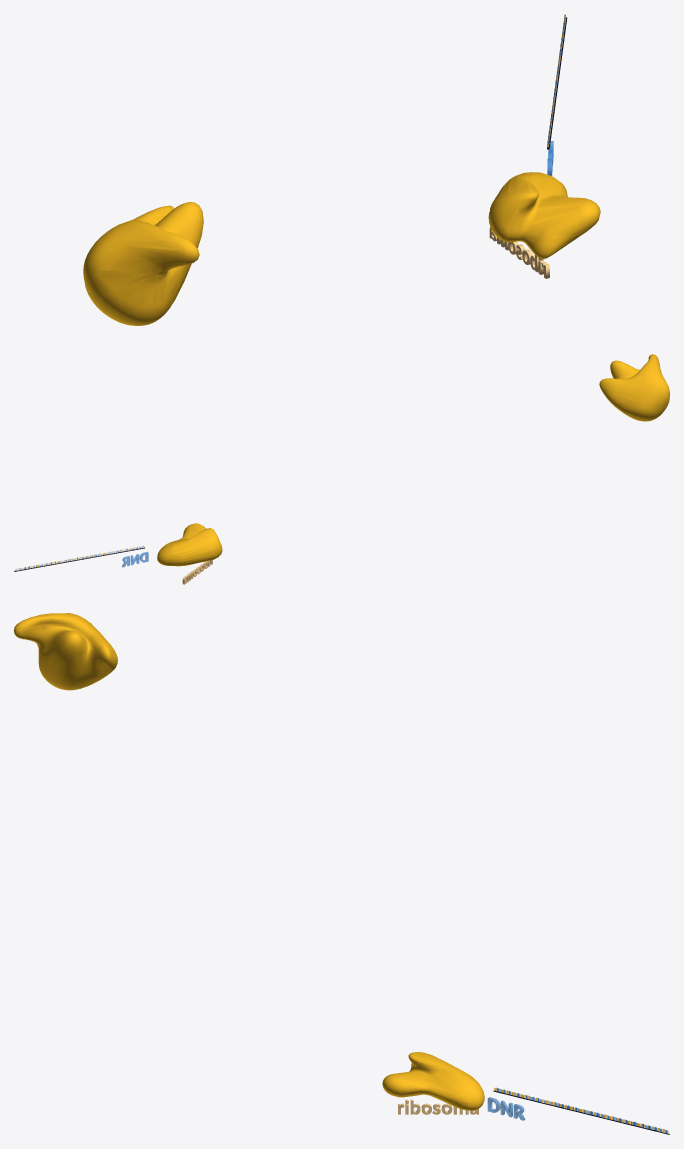
Rendered from transliacija.glb.
3 renders of one model, top to bottom at view 1: azimuth 30°, elevation 25°; view 2: azimuth 150°, elevation 25°; view 3: azimuth 270°, elevation 25°, orthographic. The views are drawn at different scales.
Parts seen in each view (by area): view 1: Didysis subvienetas, Mažasis subvienetas, ribosoma_t, DNR.; view 2: Didysis subvienetas, Mažasis subvienetas, DNR.; view 3: Didysis subvienetas, Mažasis subvienetas, DNR..
Part boxes in pixels (<box>): Didysis subvienetas: <box>83,202,203,325</box>; Mažasis subvienetas: <box>488,172,600,258</box>; ribosoma_t: <box>489,227,549,278</box>; DNR.: <box>547,14,567,149</box>; Didysis subvienetas: <box>599,354,669,421</box>; Mažasis subvienetas: <box>157,523,222,566</box>; DNR.: <box>14,546,144,571</box>; Didysis subvienetas: <box>14,613,117,690</box>; Mažasis subvienetas: <box>382,1052,484,1110</box>; DNR.: <box>493,1087,669,1134</box>.
Size of what is drawn, in the model's own units: 1.33 by 0.5441 by 1.17.
